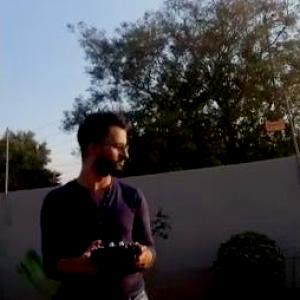follow: (28, 103, 162, 299)
